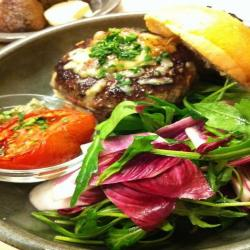burger: (55, 1, 250, 120)
salad: (79, 87, 247, 250)
